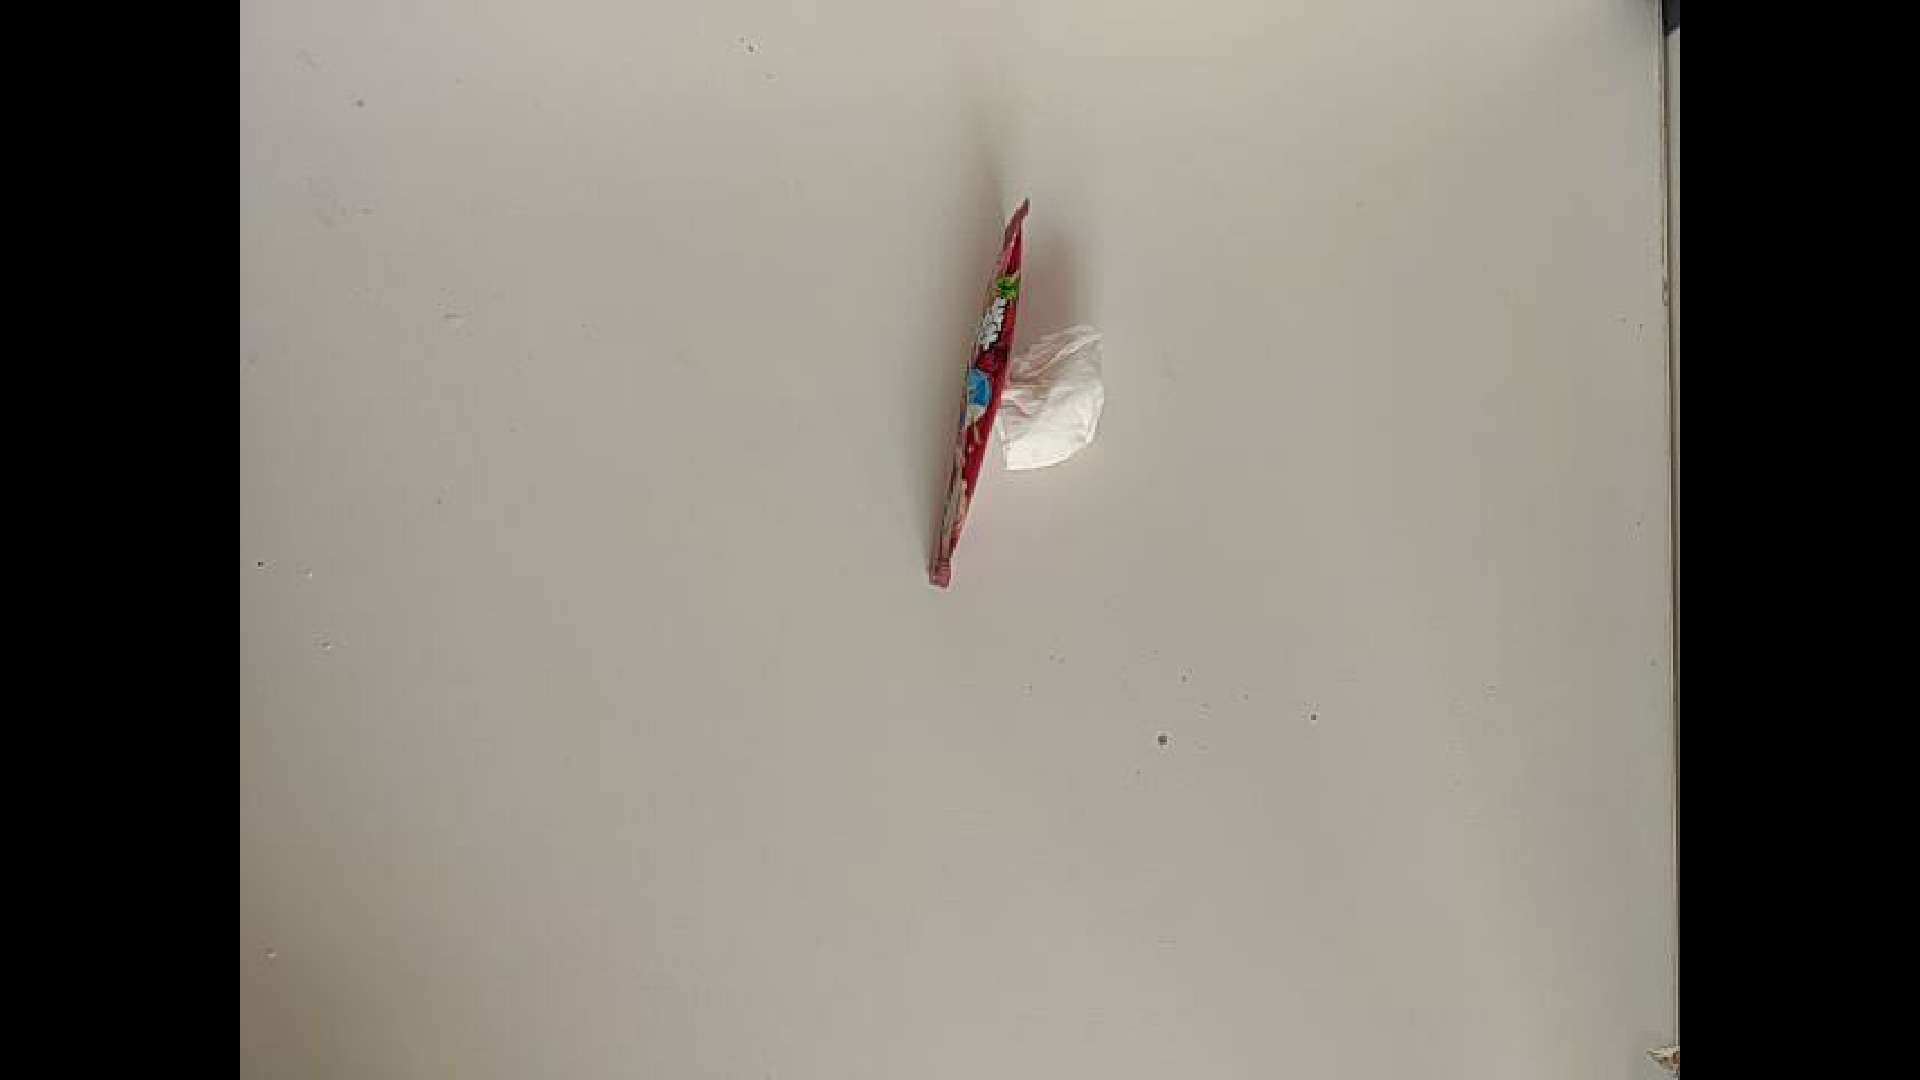sugar: (849, 190, 1047, 591)
